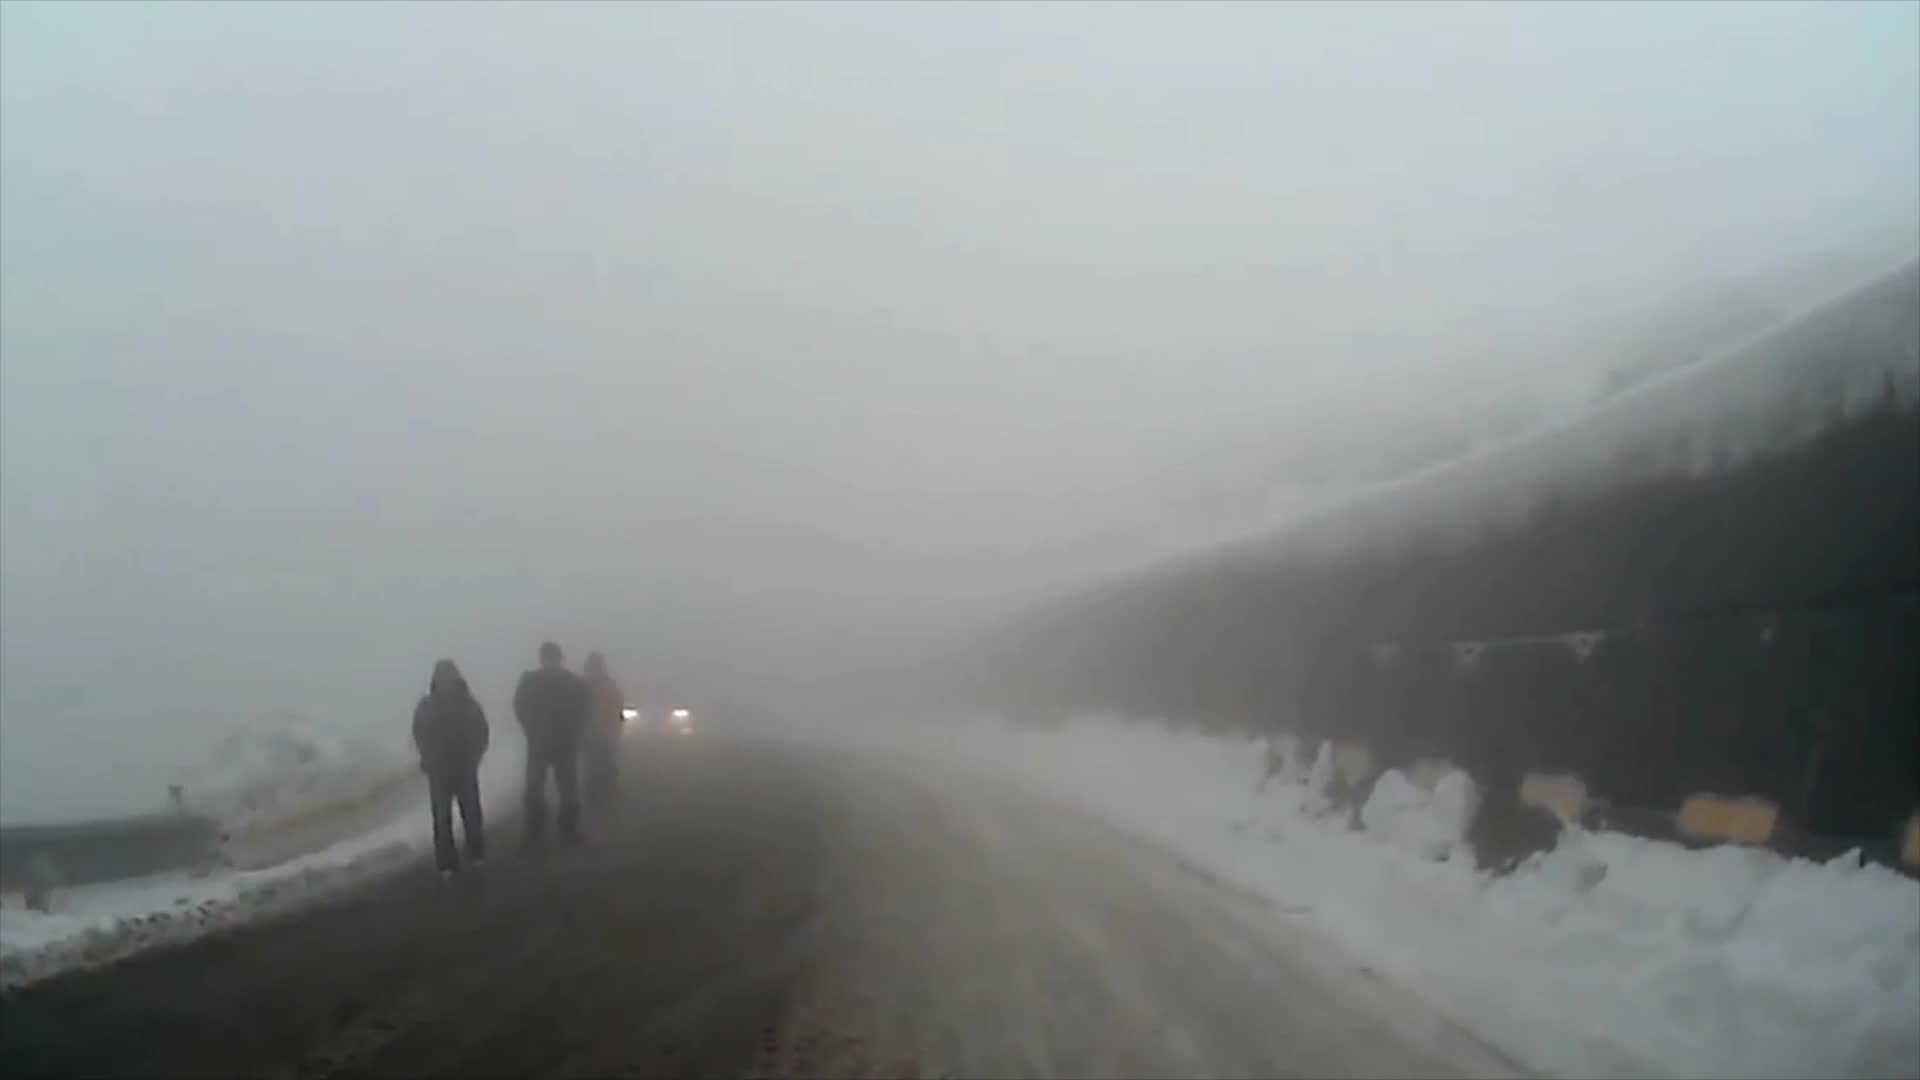pedestrian: (413, 655, 499, 885), (512, 643, 591, 853), (574, 655, 633, 822)
